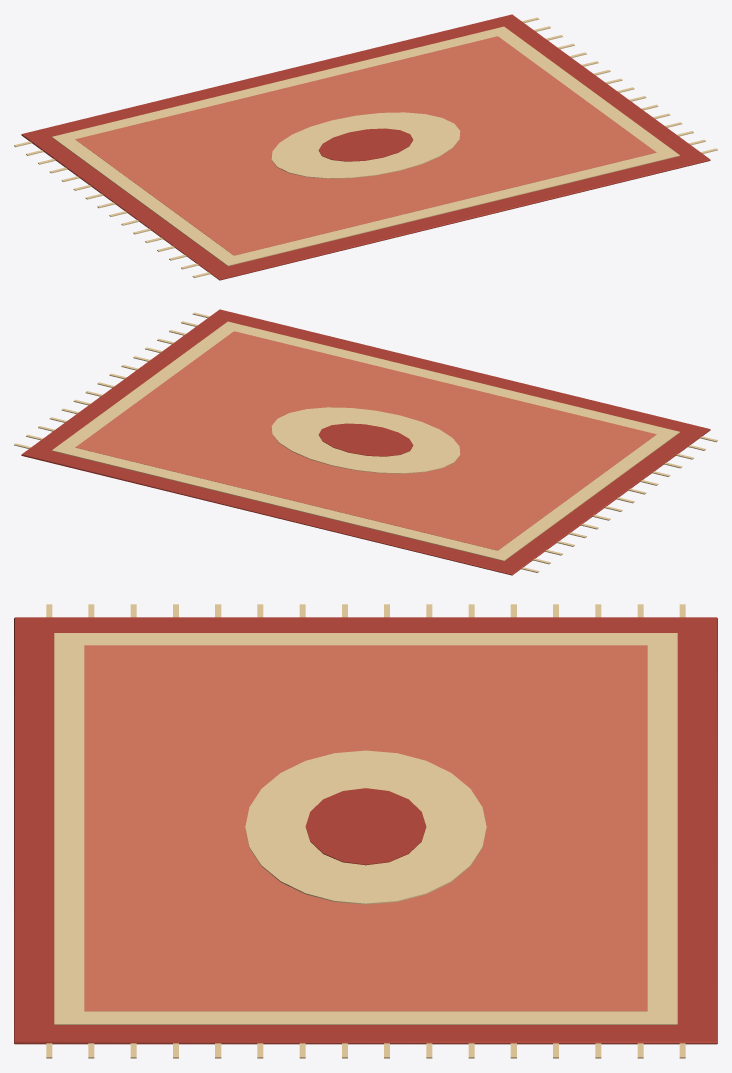
Rendered from rug.glb.
3 renders of one model, top to bottom at view 1: azimuth 30°, elevation 25°; view 2: azimuth 150°, elevation 25°; view 3: azimuth 270°, elevation 25°, orthographic. The views are drawn at different scales.
Visible parts, largest first — view 1: body; view 2: body; view 3: body.
Part boxes in pixels (box(x1,y1,x2,y2)): body: box(14, 14, 717, 280); body: box(14, 309, 717, 575); body: box(14, 604, 717, 1058).
Bounding box in the file's own units: 213 × 1.3 × 140.
